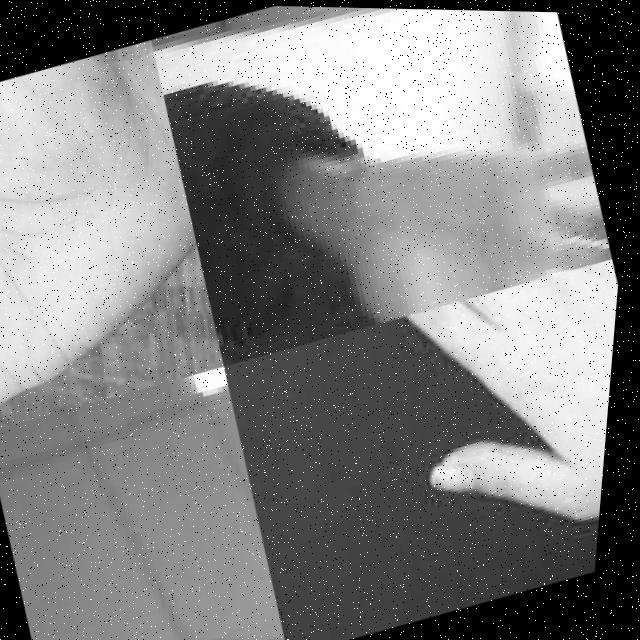hand: (331, 250, 624, 604), (0, 36, 249, 435), (316, 91, 627, 331), (58, 491, 309, 640)
